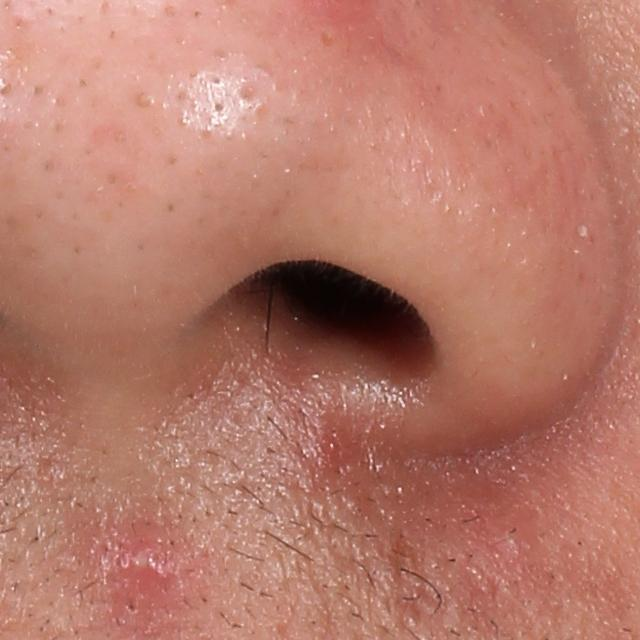comedo: (135, 87, 157, 112)
